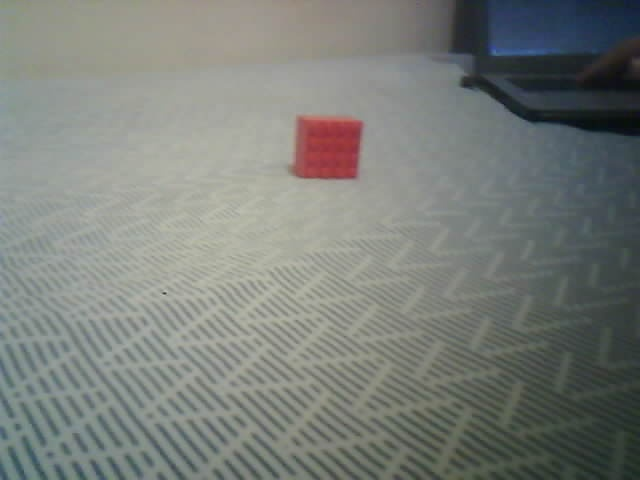lego: (292, 115, 364, 180)
